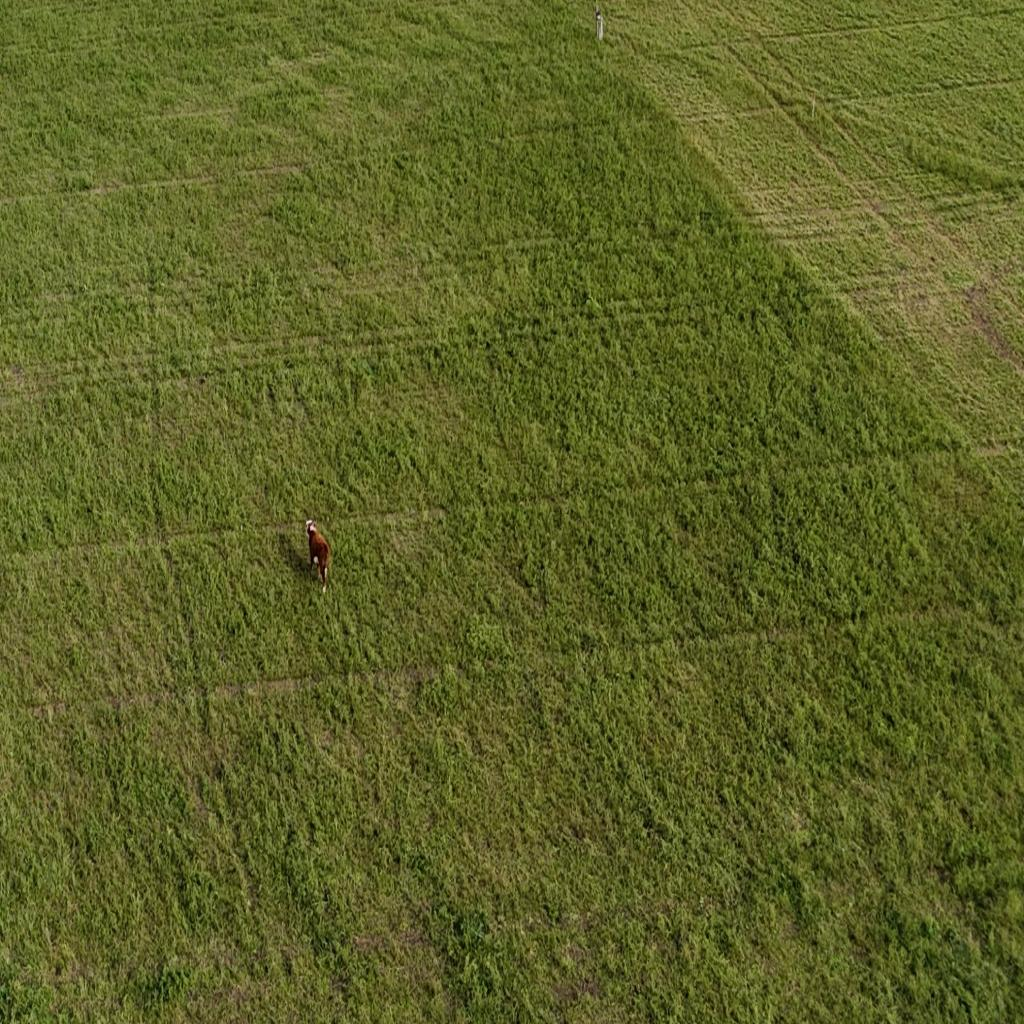cow: (300, 512, 331, 592)
